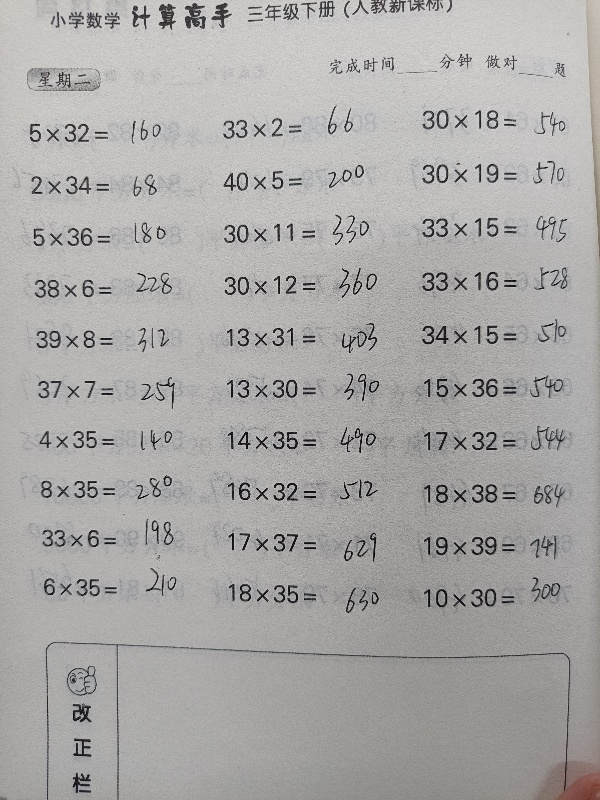equation: (416, 368, 596, 406), (413, 154, 593, 191), (415, 475, 595, 511), (415, 528, 595, 563), (414, 264, 594, 299), (414, 210, 594, 245), (214, 110, 394, 145), (414, 102, 594, 137), (401, 581, 581, 615), (220, 576, 400, 610), (219, 525, 399, 559), (220, 475, 400, 509), (406, 424, 586, 458), (30, 373, 210, 407), (219, 372, 399, 406), (219, 320, 399, 354), (414, 318, 594, 352), (27, 272, 207, 306), (215, 268, 395, 302), (25, 220, 205, 254), (215, 216, 395, 250), (23, 168, 203, 202), (214, 163, 394, 197), (21, 116, 201, 150), (34, 570, 214, 603), (34, 522, 214, 555), (32, 473, 212, 506), (220, 424, 400, 457), (31, 423, 211, 456), (28, 323, 208, 356)
